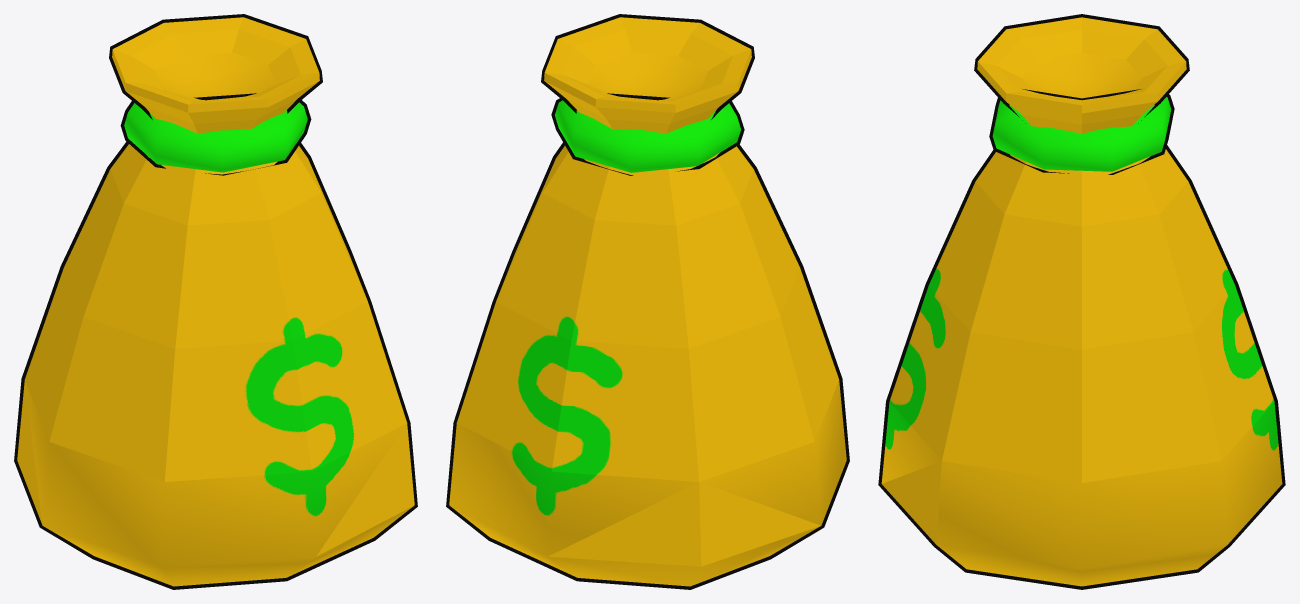
The model's file is tui-tien.glb.
3 views of the same model, side by side, from view 1: azimuth 30°, elevation 25°; view 2: azimuth 150°, elevation 25°; view 3: azimuth 270°, elevation 25° (orthographic).
Parts seen in each view (by area): view 1: tui-tien; view 2: tui-tien; view 3: tui-tien.
Boxes of the visible parts, x1,y1,x2,y2 form: tui-tien: [14, 14, 417, 589]; tui-tien: [446, 14, 849, 589]; tui-tien: [878, 14, 1285, 589].
Bounding box in the file's own units: 1.07 × 1.4 × 1.07.
3 materials, 1 textured.
